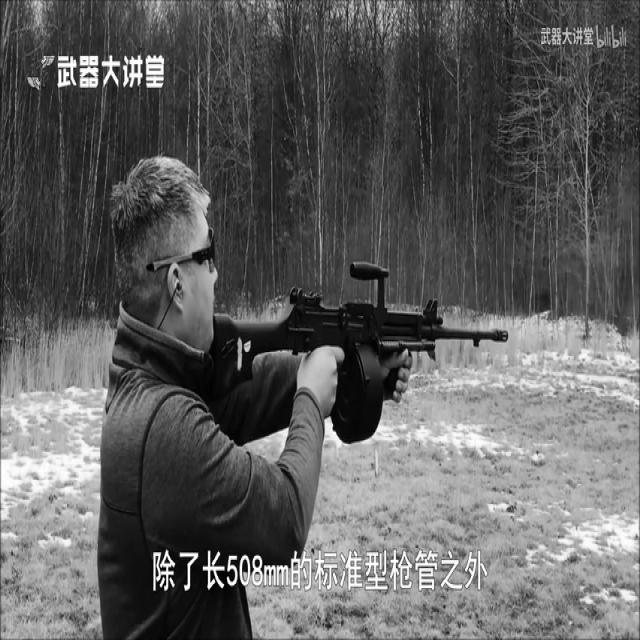Sniper: (141, 179, 525, 539)
